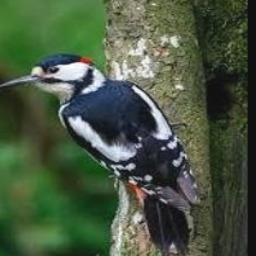Woodpecker: (0, 53, 201, 256)
